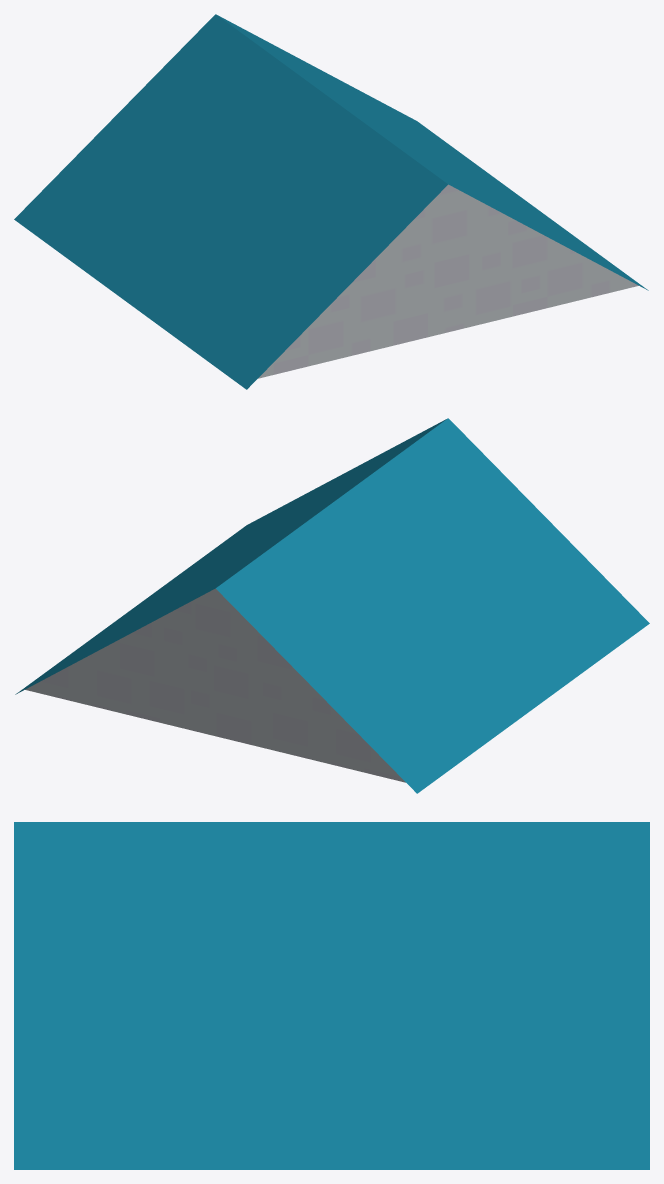
Rendered from fishing_s486-511_floor1.glb.
3 renders of one model, top to bottom at view 1: azimuth 30°, elevation 25°; view 2: azimuth 150°, elevation 25°; view 3: azimuth 270°, elevation 25°, orthographic. The views are drawn at different scales.
Parts seen in each view (by area): view 1: fishing_s486-511_floor1; view 2: fishing_s486-511_floor1; view 3: fishing_s486-511_floor1.
Boxes of the visible parts, x1,y1,x2,y2 form: fishing_s486-511_floor1: [14, 14, 648, 389]; fishing_s486-511_floor1: [15, 418, 649, 793]; fishing_s486-511_floor1: [14, 822, 649, 1169].
Size of the model in its own units: 5.4 by 2 by 5.4.
2 materials, 1 textured.
